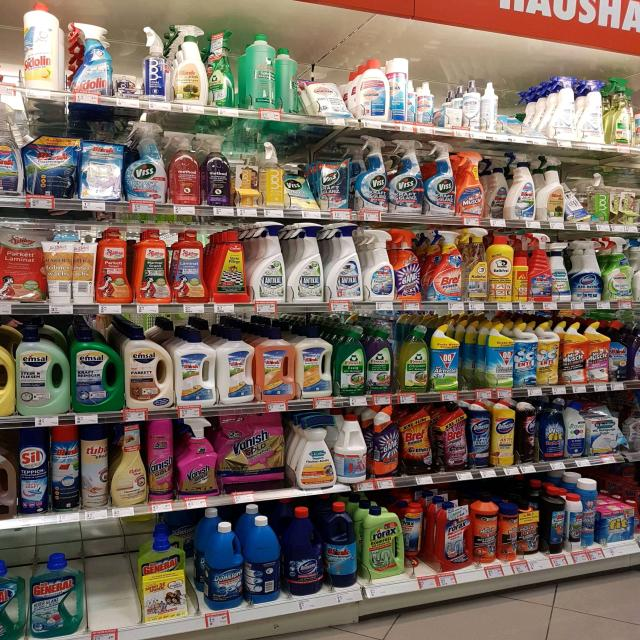void: (86, 538, 132, 640), (503, 75, 542, 143)
